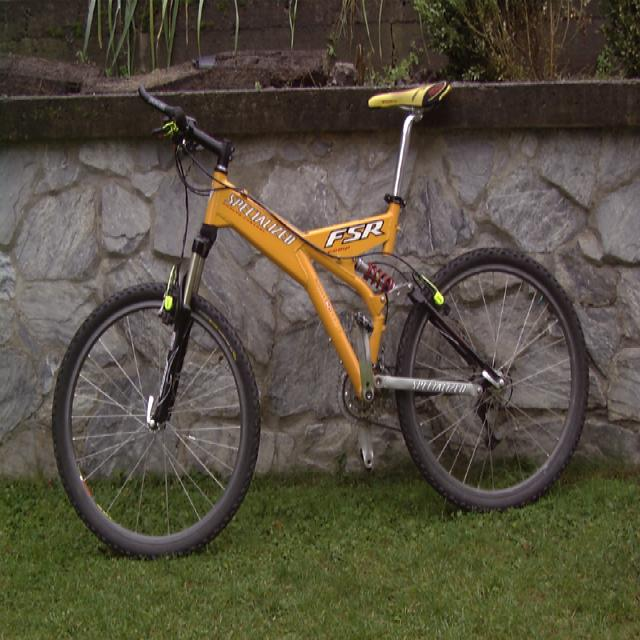bicycle: (50, 77, 589, 560)
